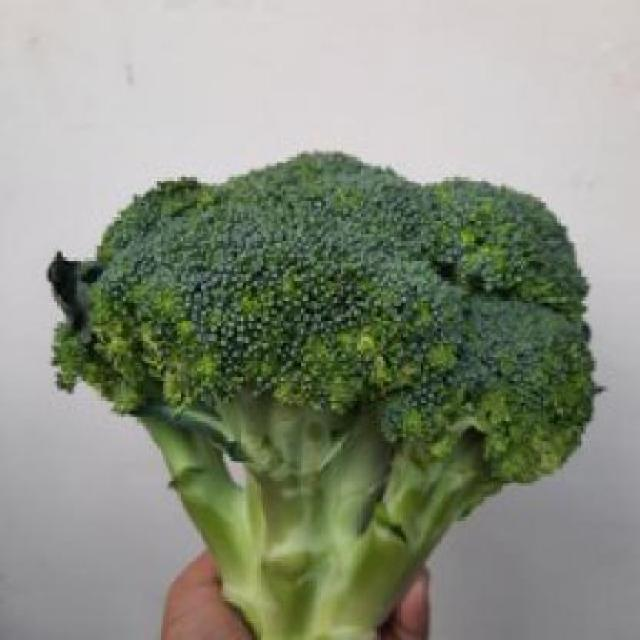broccoli: (60, 140, 628, 626)
